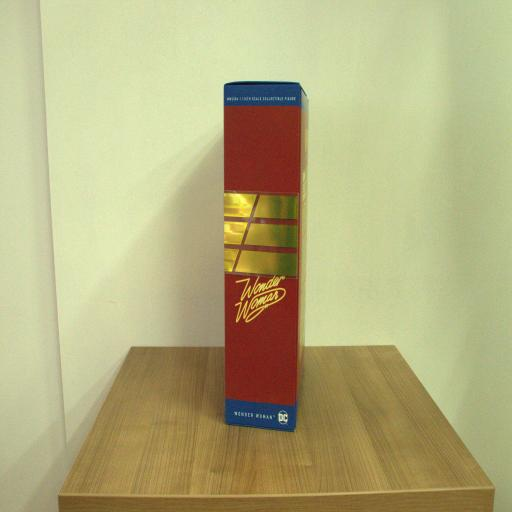WonderWoman: (220, 78, 312, 434)
